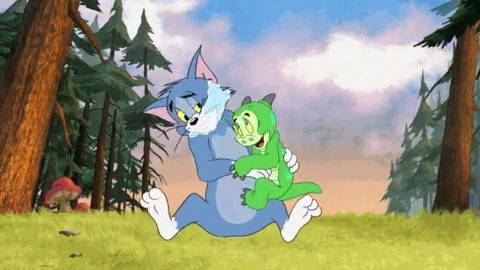tom: (126, 43, 324, 243)
